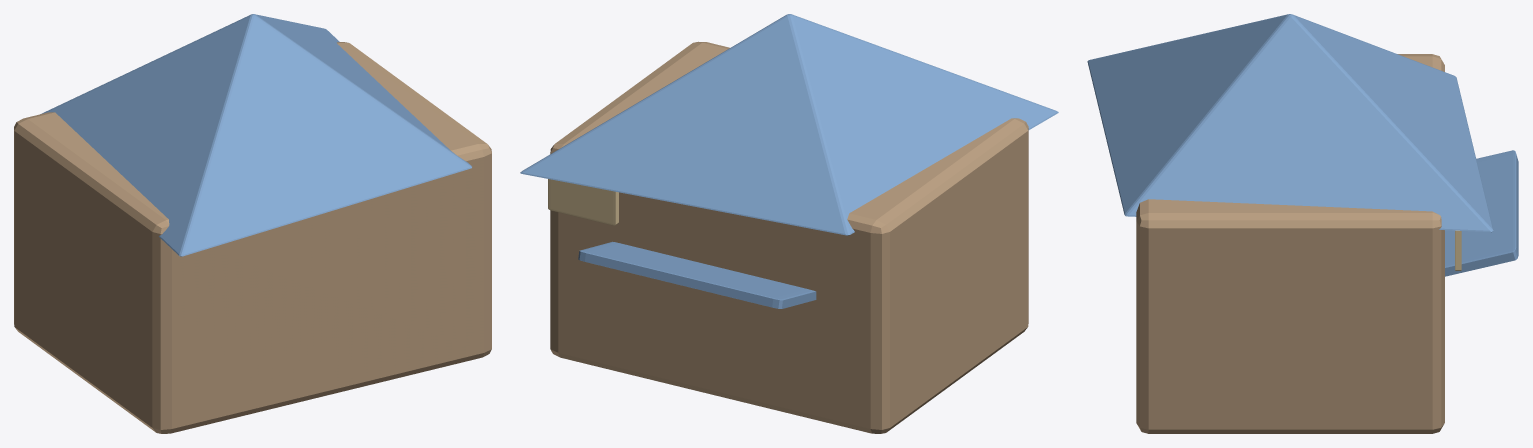
The model's file is doll_house_shop.glb.
3 renders of one model, left to right at view 1: azimuth 30°, elevation 25°; view 2: azimuth 150°, elevation 25°; view 3: azimuth 270°, elevation 25°, orthographic. The views are drawn at different scales.
Parts seen in each view (by area): view 1: Shop_Body, Shop_Roof; view 2: Shop_Body, Shop_Roof, Shop_Awning, Shop_Signboard; view 3: Shop_Body, Shop_Roof, Shop_Awning.
Boxes of the visible parts, x1=… form: Shop_Body: x1=14, y1=42, x2=491, y2=433; Shop_Roof: x1=40, y1=14, x2=471, y2=256; Shop_Body: x1=550, y1=41, x2=1028, y2=433; Shop_Roof: x1=520, y1=14, x2=1058, y2=235; Shop_Awning: x1=578, y1=241, x2=816, y2=308; Shop_Signboard: x1=548, y1=179, x2=618, y2=225; Shop_Body: x1=1136, y1=54, x2=1444, y2=433; Shop_Roof: x1=1087, y1=14, x2=1493, y2=232; Shop_Awning: x1=1445, y1=150, x2=1518, y2=276.
Size of the model in its own units: 6.06 by 5.58 by 6.43.
